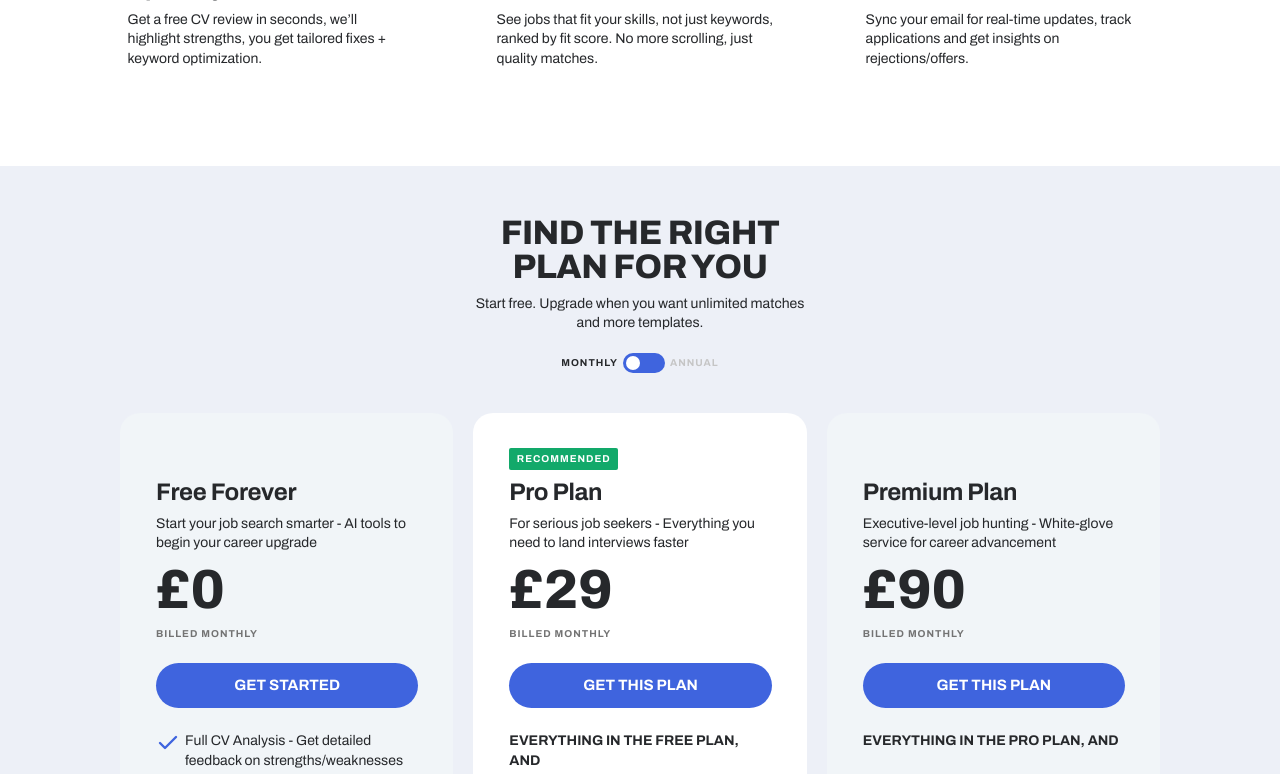
Test: LandingPage › switches every plan between monthly and discounted annual prices
(page scrolled)
Expected: the text with test id "price-29" reads "£29", [509,560,613,620]
Expected: the text with test id "price-90" reads "£90", [863,560,966,620]
Click the switch named "Annual billing". click: (644, 363)
box: [623,353,665,373]
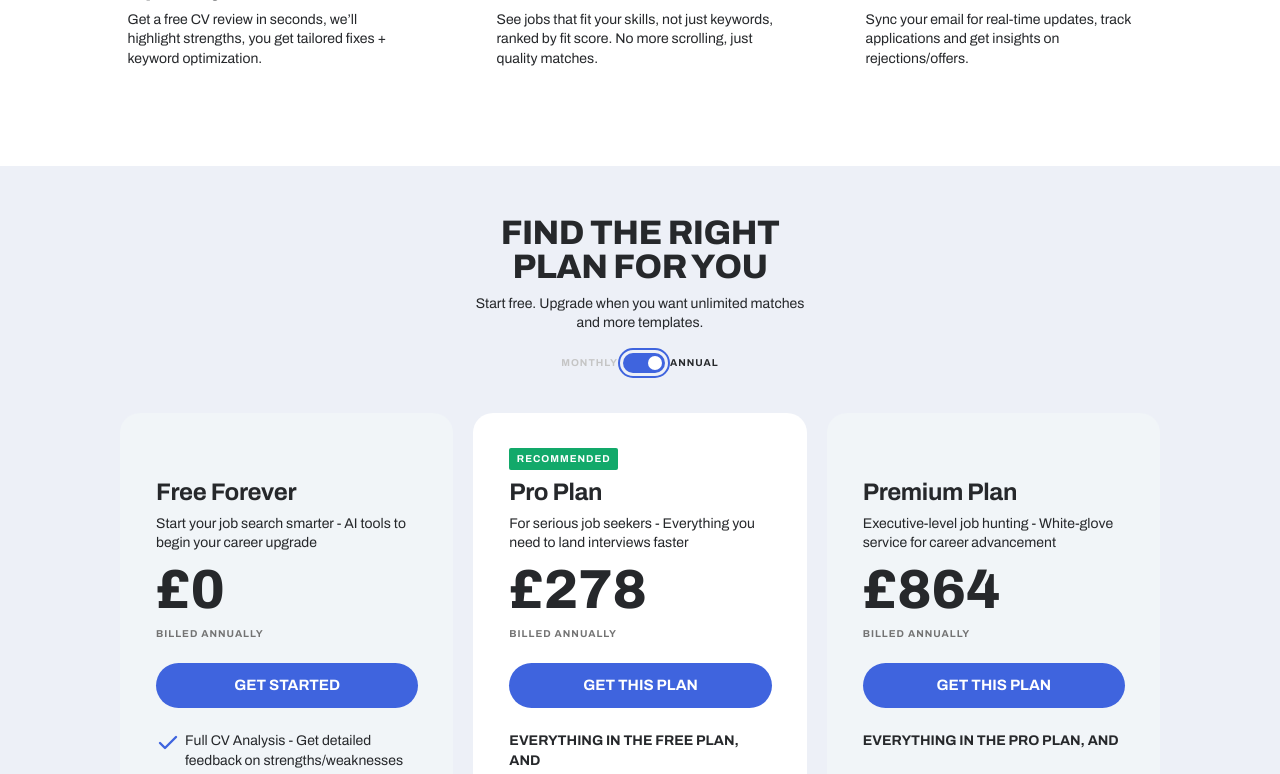
Expected: the text with test id "price-0" reads "£0", [156,560,225,620]
Now the text with test id "price-29" reads "£278", box [509,560,647,620]
Now the text with test id "price-90" reads "£864", box [863,560,1000,620]
